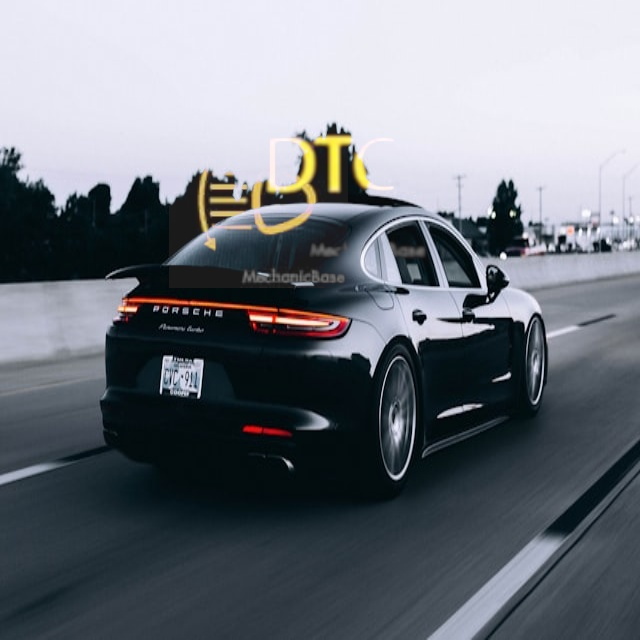symbol: (231, 65, 433, 267), (169, 109, 348, 288)
